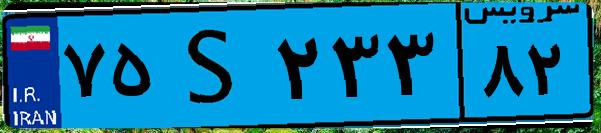2: (270, 28, 330, 110), (525, 38, 570, 115)
3: (385, 28, 445, 110), (330, 28, 385, 110)
5: (110, 28, 158, 98)
7: (57, 26, 110, 100)
8: (475, 38, 525, 113)
S: (158, 12, 270, 120)
